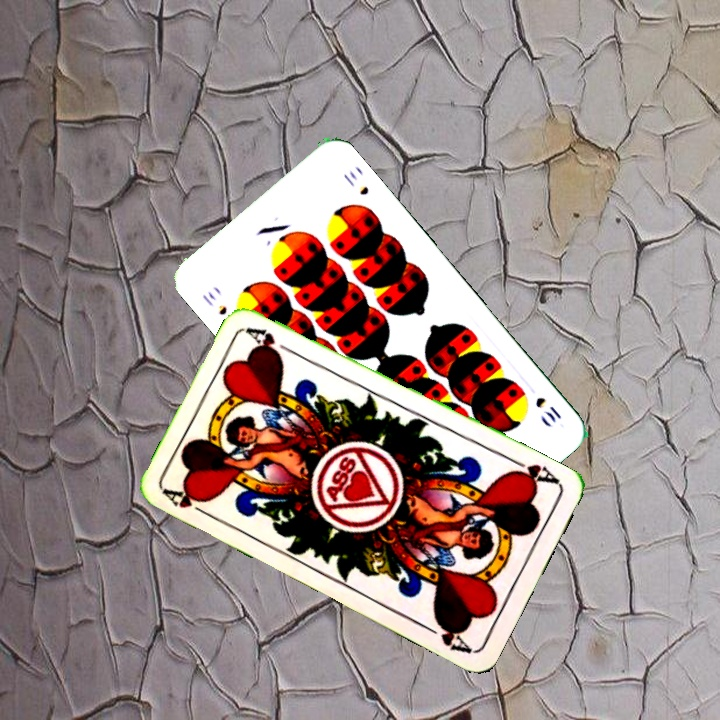HA: (160, 483, 216, 521), (505, 454, 562, 489)
S10: (531, 393, 564, 425), (198, 287, 230, 318)
